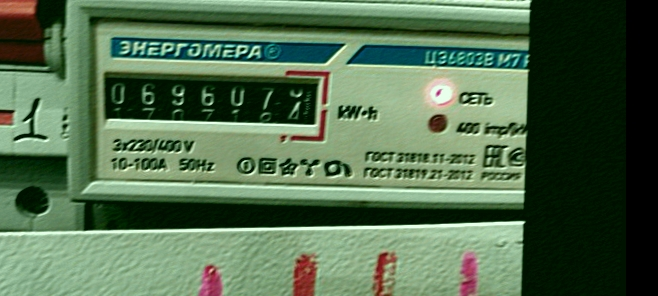0: (111, 79, 128, 103), (231, 80, 246, 106)
4: (287, 97, 304, 121)
6: (201, 80, 218, 105), (141, 80, 158, 104)
7: (261, 83, 276, 110)
9: (171, 80, 187, 105)
screen: (91, 56, 335, 137)
